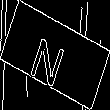N_NE: (33, 24, 77, 86)
